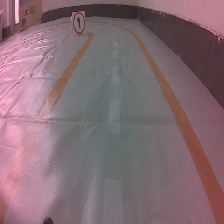limit: (70, 10, 87, 37)
